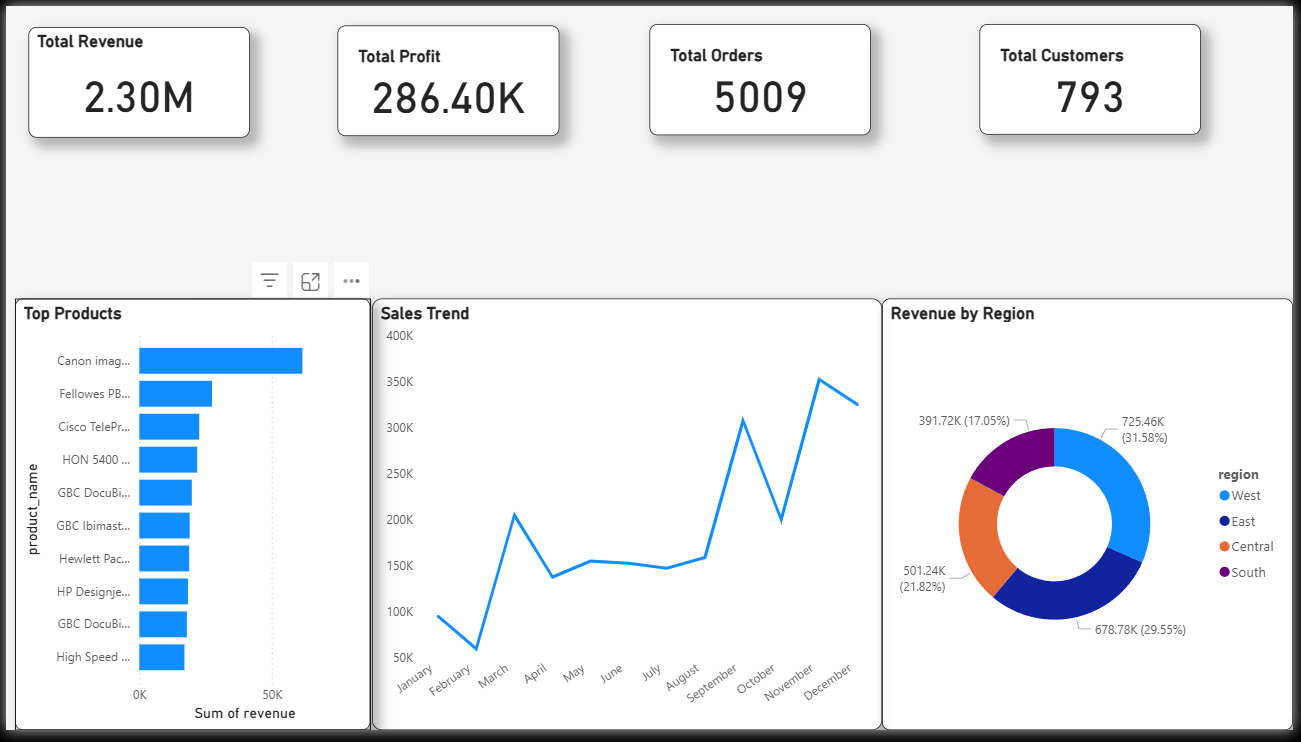

Layout of this report page (visuals, bound fields, positions):
{"tool":"powerbi","page":{"name":"Page 1","canvas":[1280,720],"ordinal":0},"visuals":[{"type":"card","title":"Total Revenue","fields":{"Values":["Sum(public fact_sales.revenue)"]},"box":[21.7,20.2,220.2,110.1],"z":0},{"type":"card","title":"Total Profit","fields":{"Values":["Sum(public fact_sales.profit)"]},"box":[329.7,19.4,220.8,110],"z":1000},{"type":"card","title":"Total Customers","fields":{"Values":["Count(public fact_sales.Customer ID)"]},"box":[967.8,18.6,220.2,110.1],"z":2000},{"type":"lineChart","title":"Sales Trend","fields":{"Y":["Sum(public fact_sales.revenue)"],"Category":["public fact_sales.order_date.Variation.Date Hierarchy.Month"]},"box":[364,290.9,507.2,429.7],"z":3000},{"type":"barChart","title":"Top Products","fields":{"Y":["Sum(public fact_sales.revenue)"],"Category":["public fact_sales.product_name"]},"box":[9,290.9,353.6,429.7],"z":4000},{"type":"donutChart","title":"Revenue by Region","fields":{"Category":["public fact_sales.region"],"Y":["Sum(public fact_sales.revenue)"]},"box":[871.2,290.9,408.8,429.7],"z":5000},{"type":"card","title":"Total Orders","fields":{"Values":["Count(public fact_sales.Order ID)"]},"box":[640,17.9,220,110.4],"z":6000}]}

Visuals, with their boxes in screenshot pixels (x1, y1, x2, y2), scaled from the page's 1280x720 canvas onto the 1301x742 screenshot:
"Total Revenue" card: region(22, 21, 246, 134)
"Total Profit" card: region(335, 20, 560, 133)
"Total Customers" card: region(984, 19, 1207, 133)
"Sales Trend" lineChart: region(370, 300, 885, 741)
"Top Products" barChart: region(9, 300, 369, 741)
"Revenue by Region" donutChart: region(885, 300, 1300, 741)
"Total Orders" card: region(650, 18, 874, 132)
